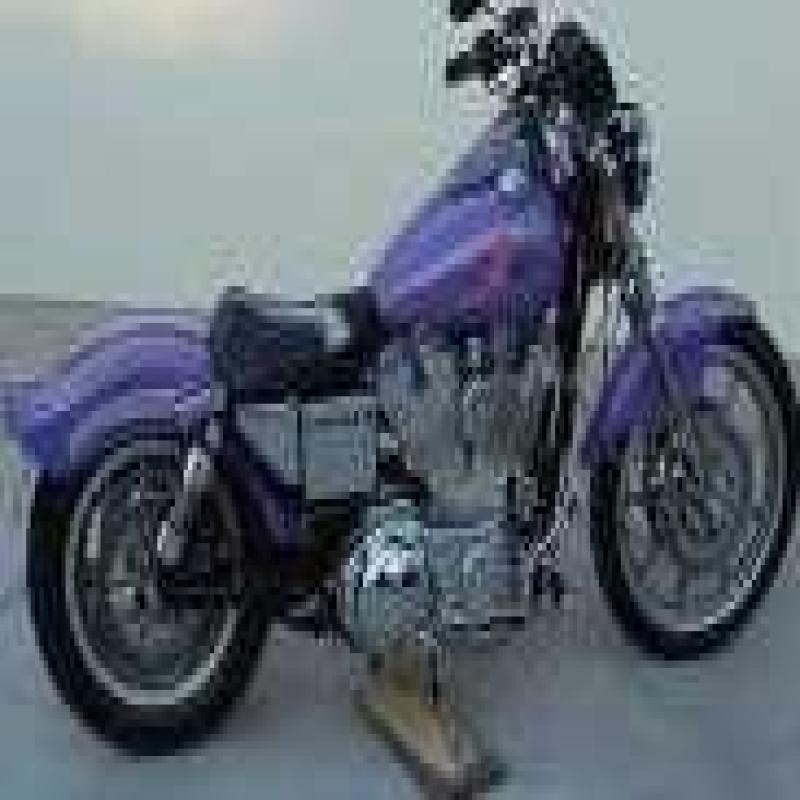bike: (11, 0, 800, 752)
